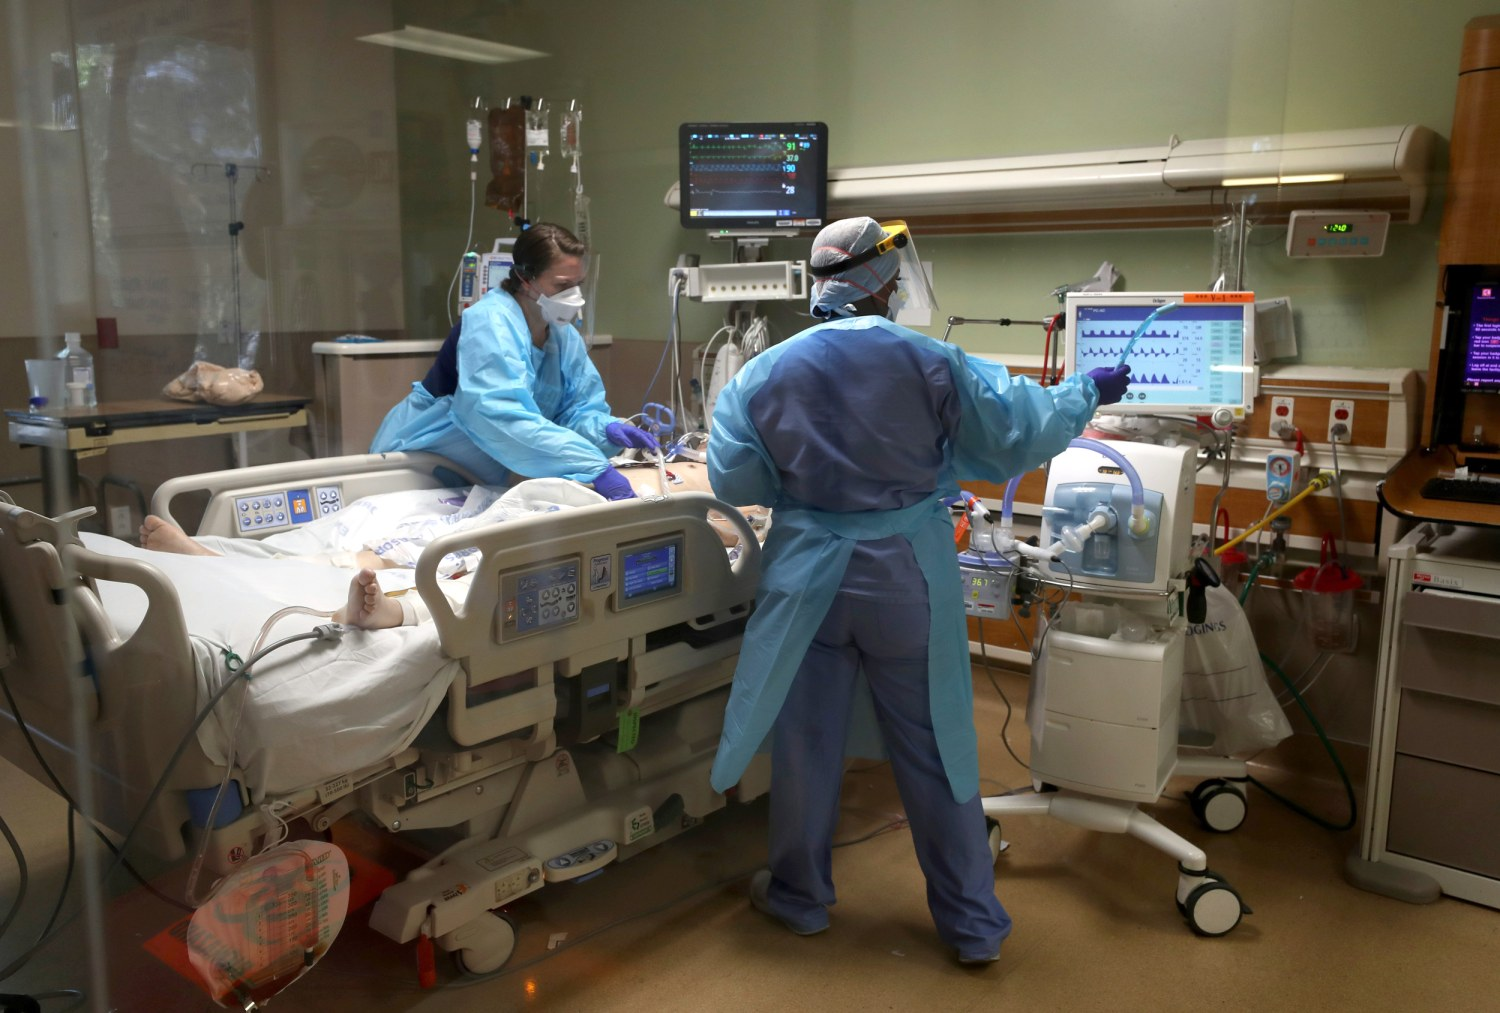bedrail: (414, 495, 763, 688), (148, 453, 482, 539)
bedside_monitor: (1062, 293, 1257, 427), (683, 124, 828, 221), (1267, 203, 1399, 272), (1444, 263, 1500, 398), (459, 238, 532, 316)
breathing_tube: (958, 437, 1147, 556)
counter: (311, 334, 617, 456)
foot_board: (1, 483, 198, 862)
hospital_bed: (1, 450, 770, 980)
iv_pole: (183, 150, 296, 371), (468, 91, 579, 222)
medical_drawer: (1348, 517, 1500, 916)
patient: (138, 432, 773, 630)
staff: (706, 212, 1131, 970), (371, 224, 658, 506)
table: (1, 390, 312, 466)
ventilator: (1006, 429, 1206, 808)
